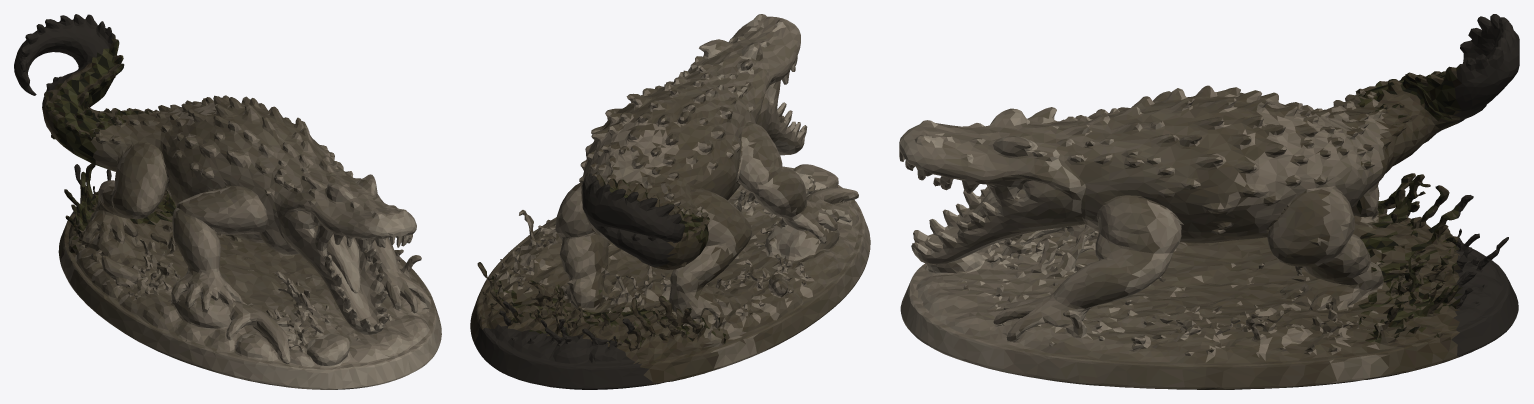
File: jacare.glb
The picture shows the model from 3 angles, left to right: view 1: azimuth 30°, elevation 25°; view 2: azimuth 150°, elevation 25°; view 3: azimuth 270°, elevation 25°; orthographic projection. The views are drawn at different scales.
Parts seen in each view (by area): view 1: tmps49iihg9.ply; view 2: tmps49iihg9.ply; view 3: tmps49iihg9.ply.
Part boxes in pixels (box(x1,y1,x2,y2)): tmps49iihg9.ply: box(14, 14, 441, 389); tmps49iihg9.ply: box(470, 14, 870, 389); tmps49iihg9.ply: box(899, 14, 1519, 389).
Size of the model in its own units: 1.84 by 1.29 by 2.96.
